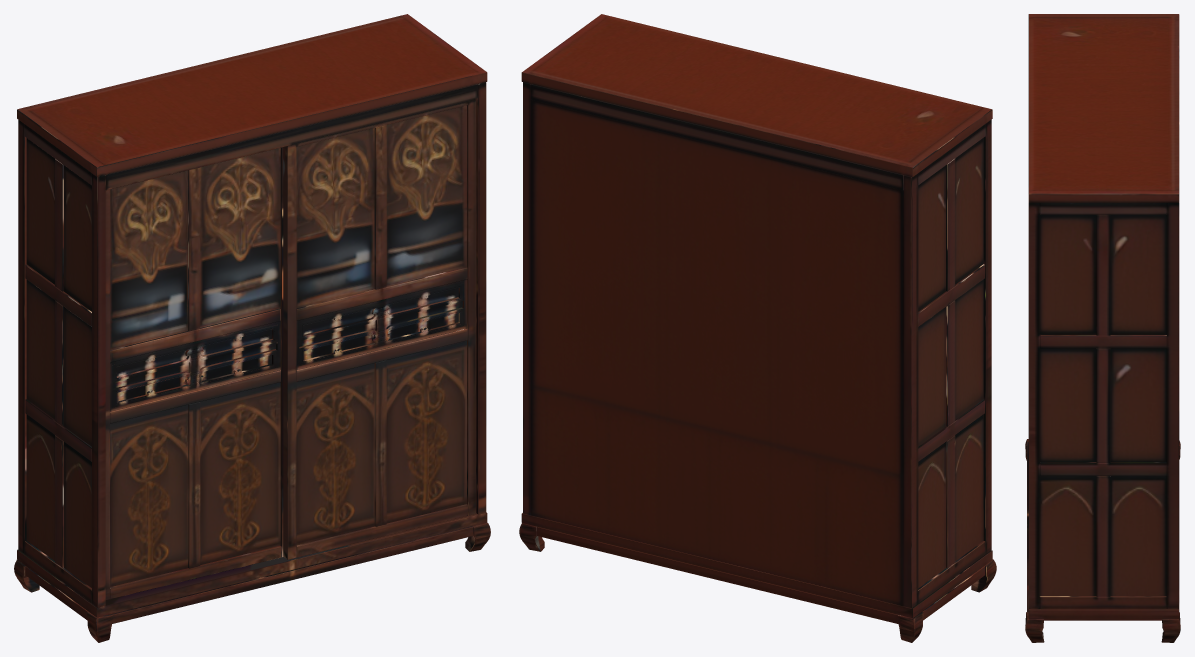
File: edited_mesh.glb
The picture shows the model from 3 angles, left to right: view 1: azimuth 30°, elevation 25°; view 2: azimuth 150°, elevation 25°; view 3: azimuth 270°, elevation 25°; orthographic projection. The views are drawn at different scales.
Visible parts, largest first — view 1: normalized_model.obj; view 2: normalized_model.obj; view 3: normalized_model.obj.
Boxes of the visible parts, bbox=[...] form: normalized_model.obj: bbox=[14, 14, 490, 642]; normalized_model.obj: bbox=[519, 14, 996, 642]; normalized_model.obj: bbox=[1025, 14, 1180, 642].
Bounding box in the file's own units: 1.21 × 1.4 × 0.4358.
Materials: 1 (1 with a texture image).
